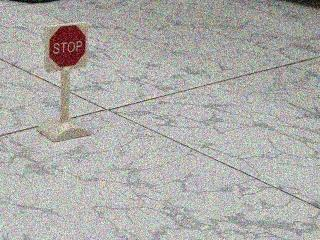stop: (37, 15, 97, 82)
